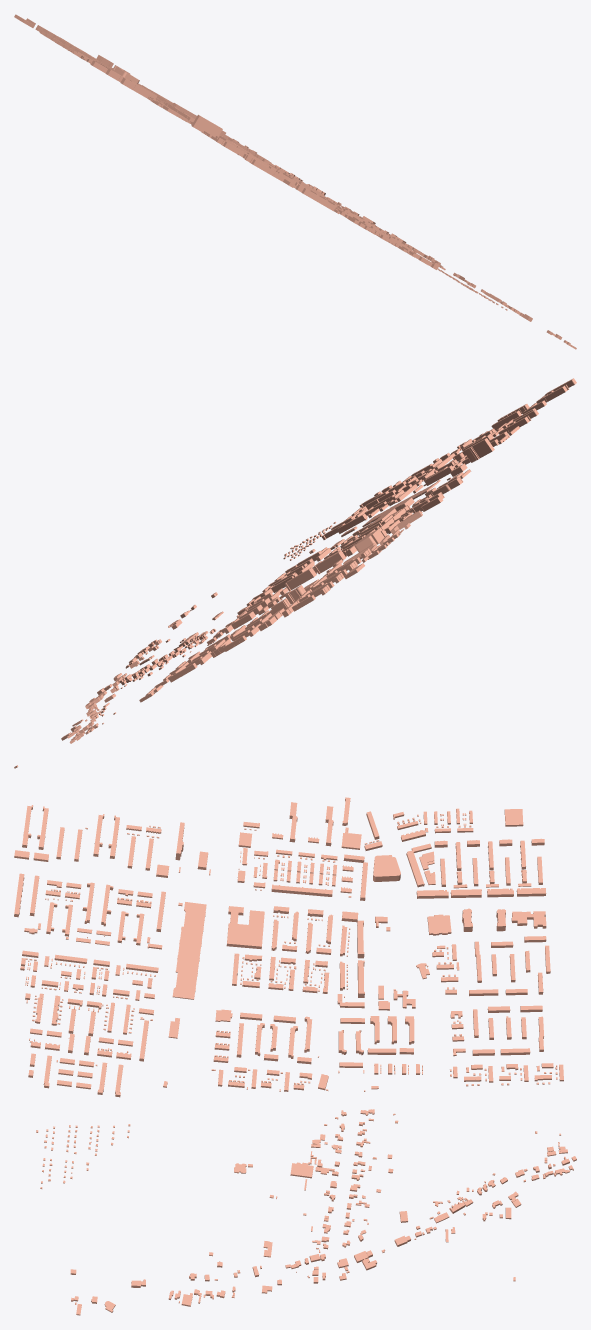
3 renders of one model, top to bottom at view 1: azimuth 30°, elevation 25°; view 2: azimuth 150°, elevation 25°; view 3: azimuth 270°, elevation 25°, orthographic. The views are drawn at different scales.
Size of the model in its own units: 1045 by 795 by 1254.
